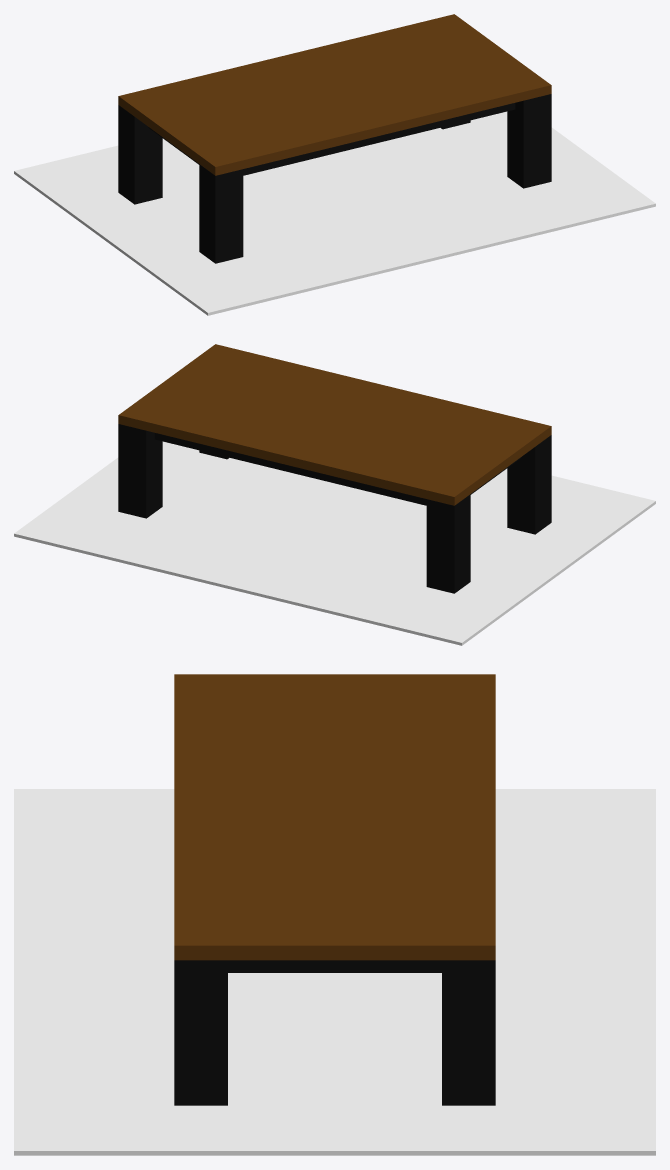
The model's file is TABLE_THICK.fbx.
3 views of the same model, one above another, from view 1: azimuth 30°, elevation 25°; view 2: azimuth 150°, elevation 25°; view 3: azimuth 270°, elevation 25° (orthographic). The views are drawn at different scales.
Parts seen in each view (by area): view 1: Box005, table, leg1, leg3, leg2, Box001; view 2: Box005, table, leg2, leg4, leg1, Box002; view 3: Box005, table, leg4, leg3, Box004.
Part boxes in pixels (x1=…): Box005: x1=14, y1=111, x2=655, y2=315; table: x1=118, y1=14, x2=551, y2=175; leg1: x1=199, y1=164, x2=243, y2=263; leg3: x1=507, y1=94, x2=551, y2=188; leg2: x1=118, y1=105, x2=162, y2=204; Box001: x1=243, y1=103, x2=515, y2=175; Box005: x1=14, y1=441, x2=655, y2=645; table: x1=118, y1=344, x2=551, y2=505; leg2: x1=426, y1=494, x2=470, y2=593; leg4: x1=118, y1=424, x2=162, y2=518; leg1: x1=507, y1=435, x2=551, y2=534; Box002: x1=154, y1=433, x2=426, y2=505; Box005: x1=14, y1=789, x2=655, y2=1155; table: x1=174, y1=674, x2=495, y2=960; leg4: x1=442, y1=960, x2=495, y2=1105; leg3: x1=174, y1=960, x2=227, y2=1105; Box004: x1=228, y1=960, x2=441, y2=972.
Size of the model in its own units: 160 by 34 by 120.
